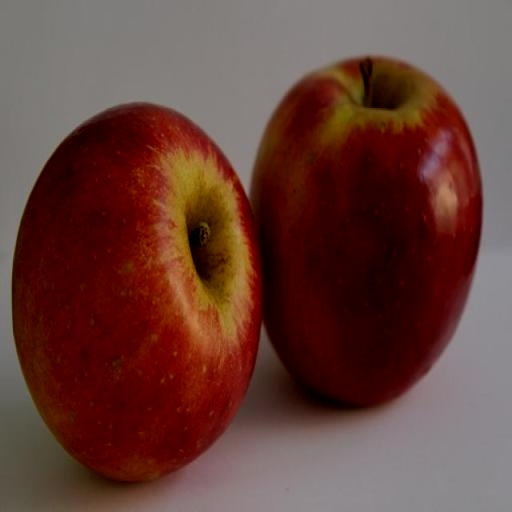fruit: (120, 155, 392, 512), (463, 121, 497, 371)
